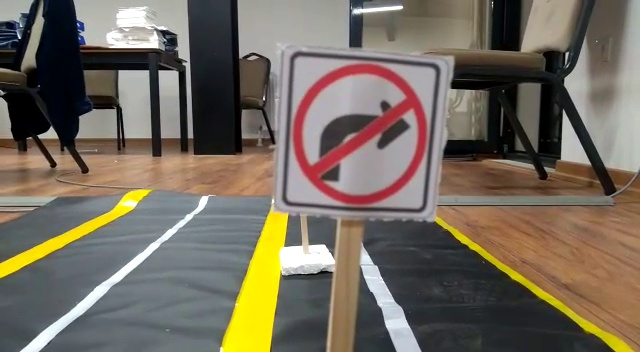saga_donulmez: (286, 53, 430, 206)
